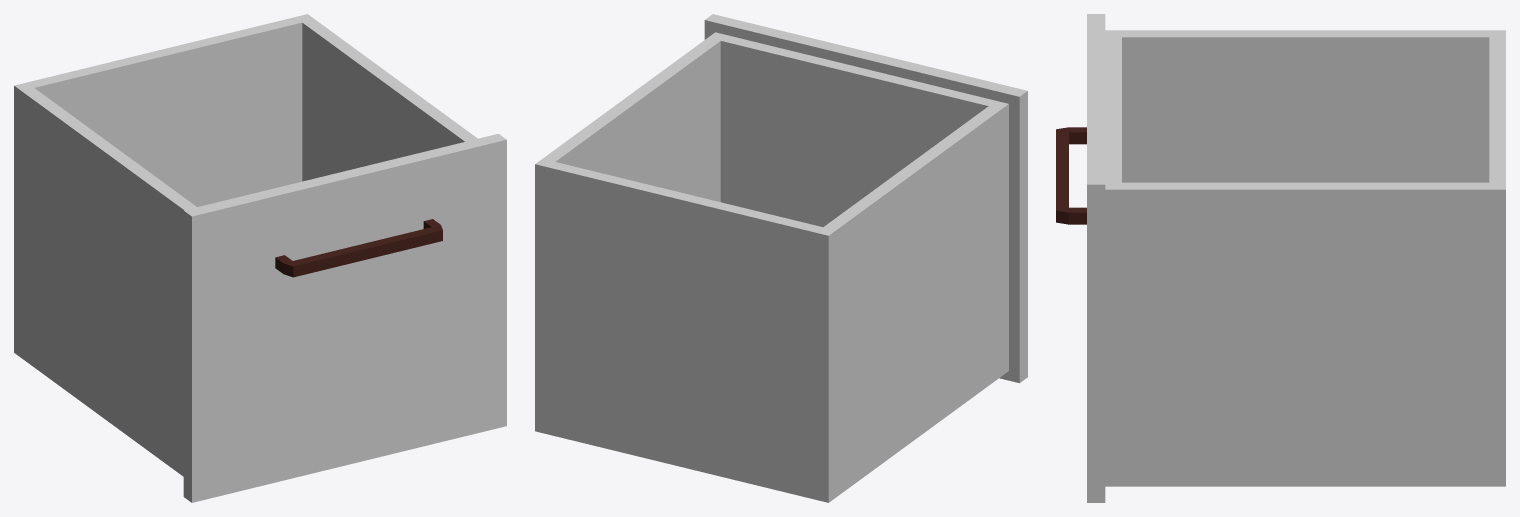
The model's file is drawer1.fbx.
3 renders of one model, left to right at view 1: azimuth 30°, elevation 25°; view 2: azimuth 150°, elevation 25°; view 3: azimuth 270°, elevation 25°, orthographic. The views are drawn at different scales.
Parts seen in each view (by area): view 1: drawer1; view 2: drawer1; view 3: drawer1.
Part boxes in pixels (x1=…): drawer1: x1=14, y1=14, x2=506, y2=502; drawer1: x1=535, y1=14, x2=1027, y2=502; drawer1: x1=1056, y1=14, x2=1505, y2=502.
Bounding box in the file's own units: 52.59 × 45.7 × 58.54.
